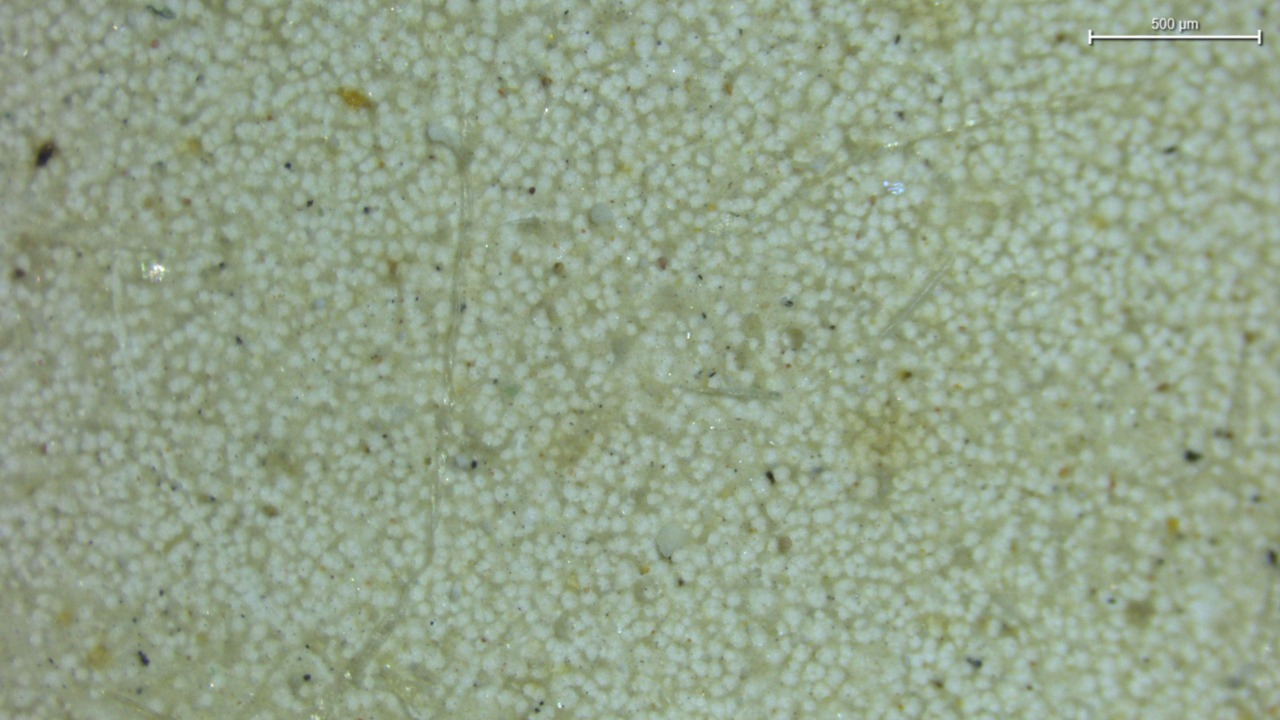microplastic_fragment: (427, 125, 469, 162), (655, 523, 689, 558), (589, 202, 614, 226)
